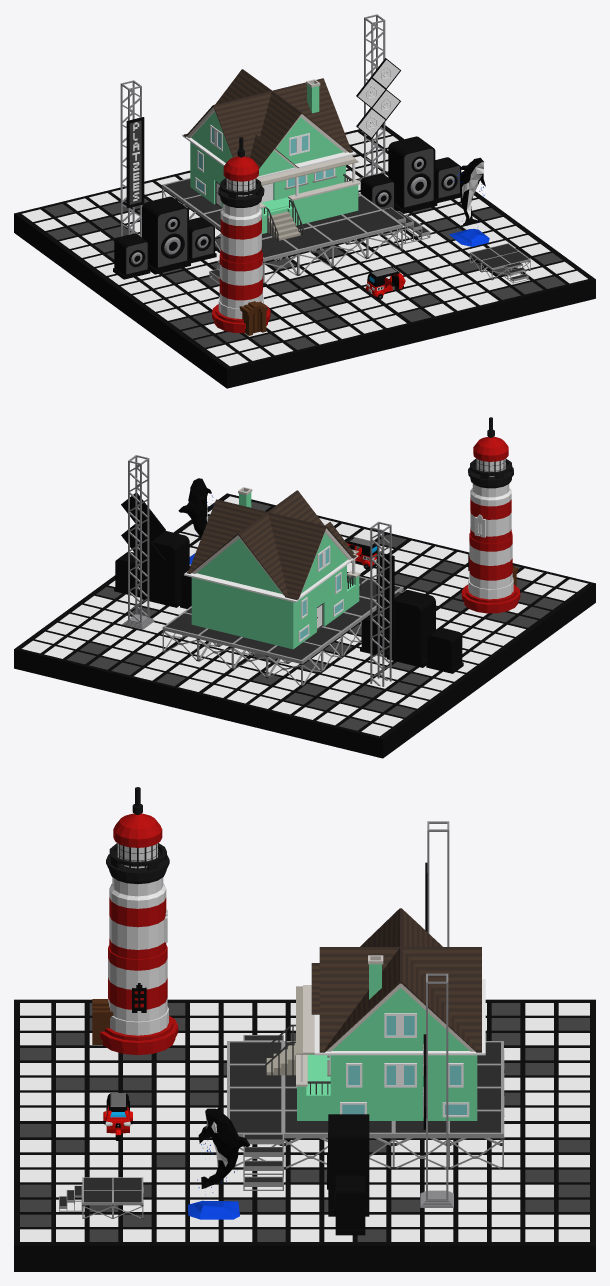
3 views of the same model, one above another, from view 1: azimuth 30°, elevation 25°; view 2: azimuth 150°, elevation 25°; view 3: azimuth 270°, elevation 25° (orthographic). The views are drawn at different scales.
Parts seen in each view (by area): view 1: Cube.008, Cube.352, OBJRANDOM_LIGHTHOUSE, ANIMAL_ORCA, VEHICLES_TUC_TUC; view 2: Cube.008, Cube.352, OBJRANDOM_LIGHTHOUSE, ANIMAL_ORCA, VEHICLES_TUC_TUC; view 3: Cube.008, Cube.352, OBJRANDOM_LIGHTHOUSE, ANIMAL_ORCA, VEHICLES_TUC_TUC.
Part boxes in pixels (left/top/right/bottom): Cube.008: left=14, top=14, right=595, bottom=388; Cube.352: left=182, top=69, right=360, bottom=241; OBJRANDOM_LIGHTHOUSE: left=212, top=137, right=270, bottom=335; ANIMAL_ORCA: left=449, top=157, right=489, bottom=246; VEHICLES_TUC_TUC: left=365, top=267, right=405, bottom=299; Cube.008: left=14, top=455, right=595, bottom=758; Cube.352: left=184, top=487, right=361, bottom=649; OBJRANDOM_LIGHTHOUSE: left=461, top=417, right=520, bottom=613; ANIMAL_ORCA: left=178, top=478, right=213, bottom=564; VEHICLES_TUC_TUC: left=347, top=537, right=377, bottom=569; Cube.008: left=14, top=821, right=595, bottom=1271; Cube.352: left=264, top=908, right=485, bottom=1120; OBJRANDOM_LIGHTHOUSE: left=92, top=787, right=178, bottom=1054; ANIMAL_ORCA: left=188, top=1107, right=249, bottom=1219; VEHICLES_TUC_TUC: left=103, top=1093, right=132, bottom=1140.
Bounding box in the file's own units: 4000 × 2335 × 4000.
43 materials, 1 textured.
